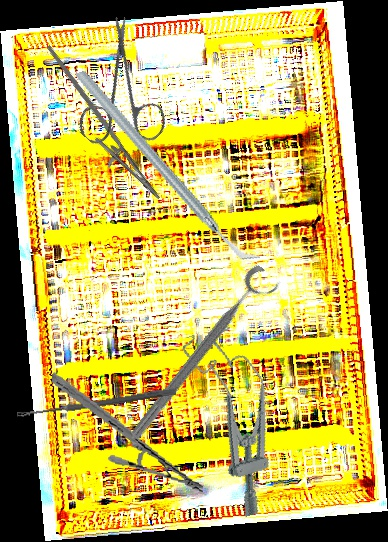Chopper: (75, 36, 261, 297)
Fixation Ring: (124, 262, 284, 452)
Iris Scissors: (41, 12, 202, 174)
Needle Holder: (19, 44, 178, 210), (38, 372, 217, 495)
Speculum: (179, 320, 298, 521)
Surgical Spoon: (16, 386, 177, 420)
